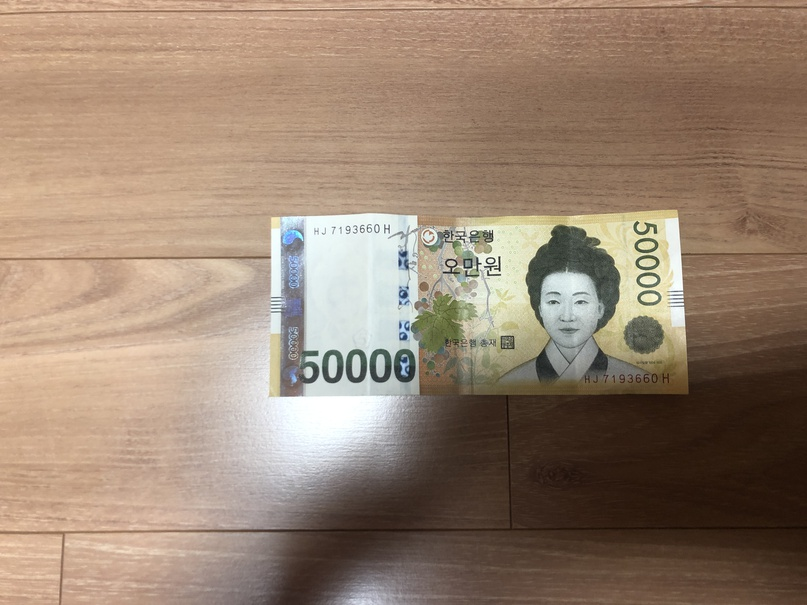50000won: (269, 210, 688, 397)
